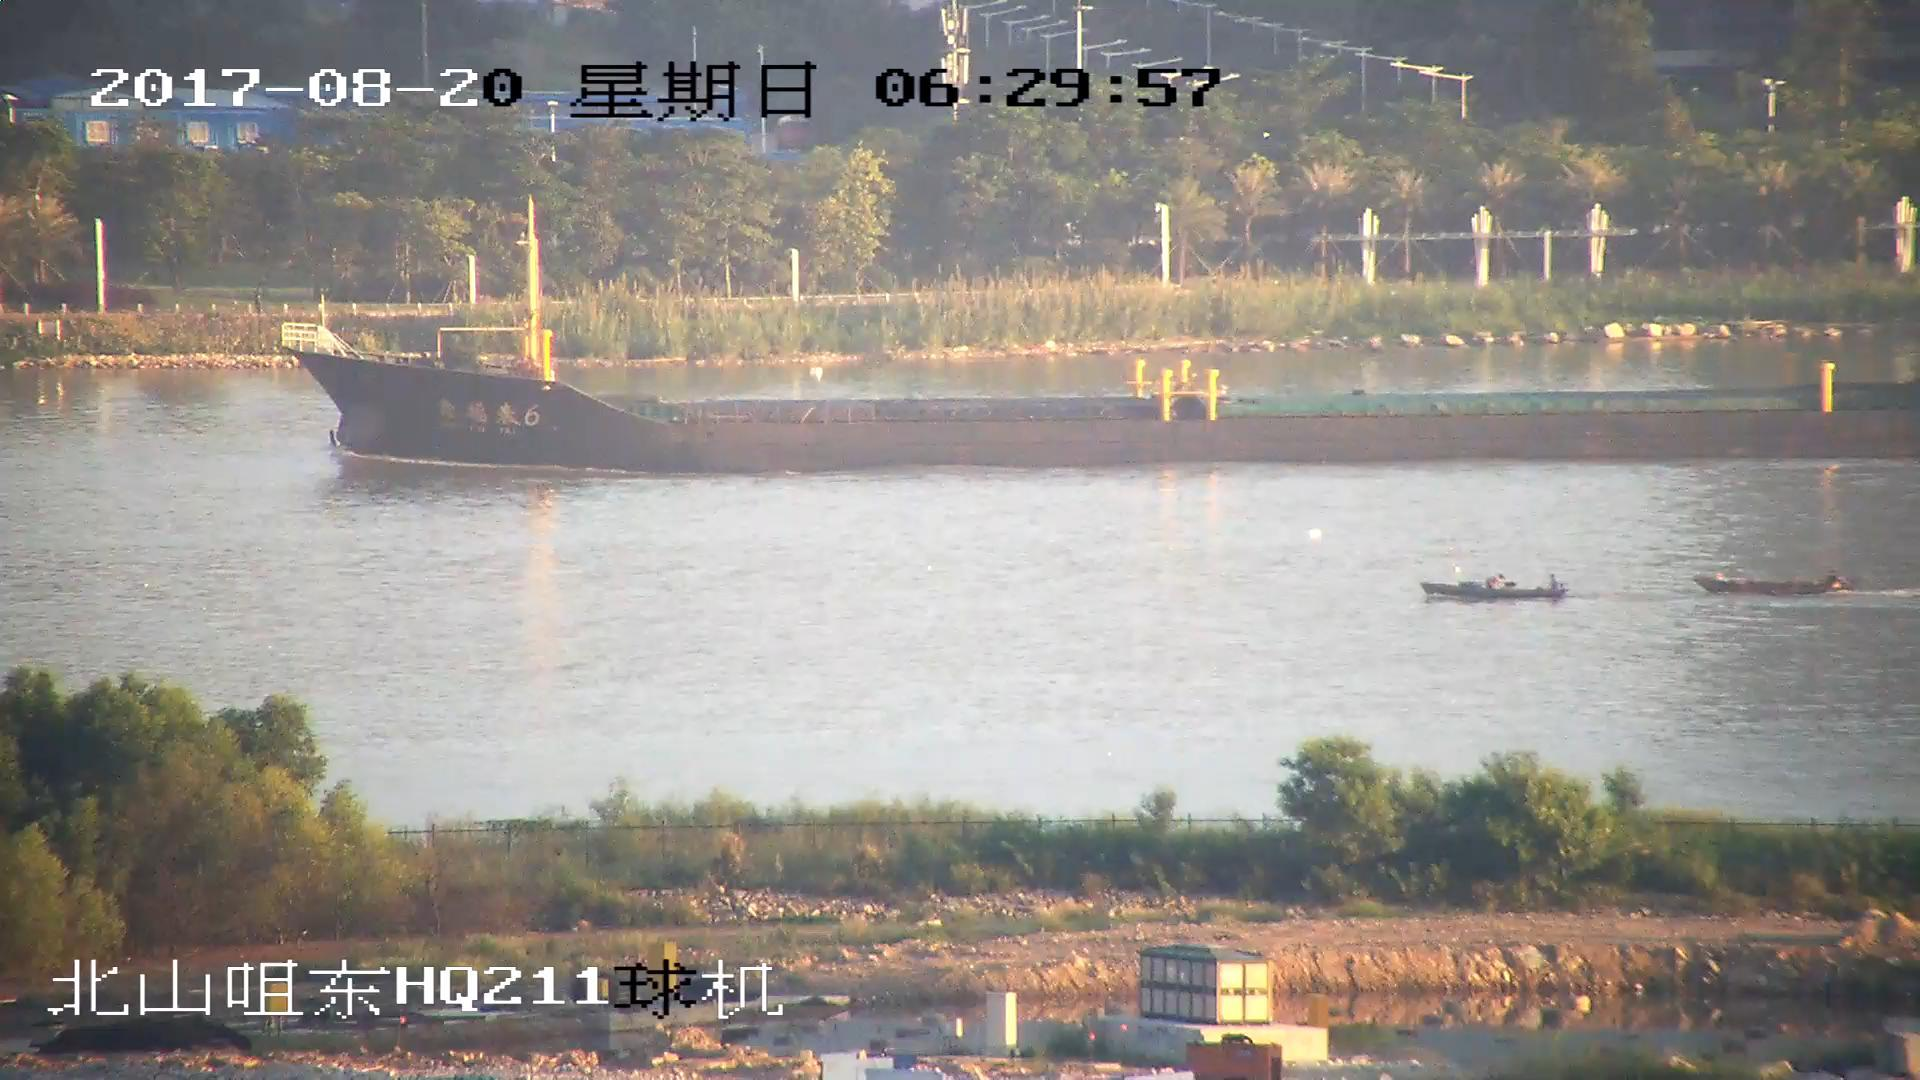Ship: (282, 227, 1920, 465), (1696, 564, 1847, 601), (1429, 578, 1571, 607)
